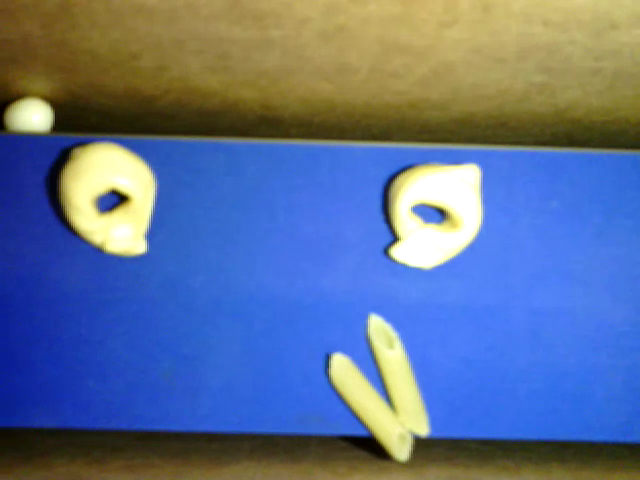penne: (327, 347, 414, 463), (367, 312, 431, 439)
tortellini: (59, 139, 158, 256), (385, 162, 484, 272)
